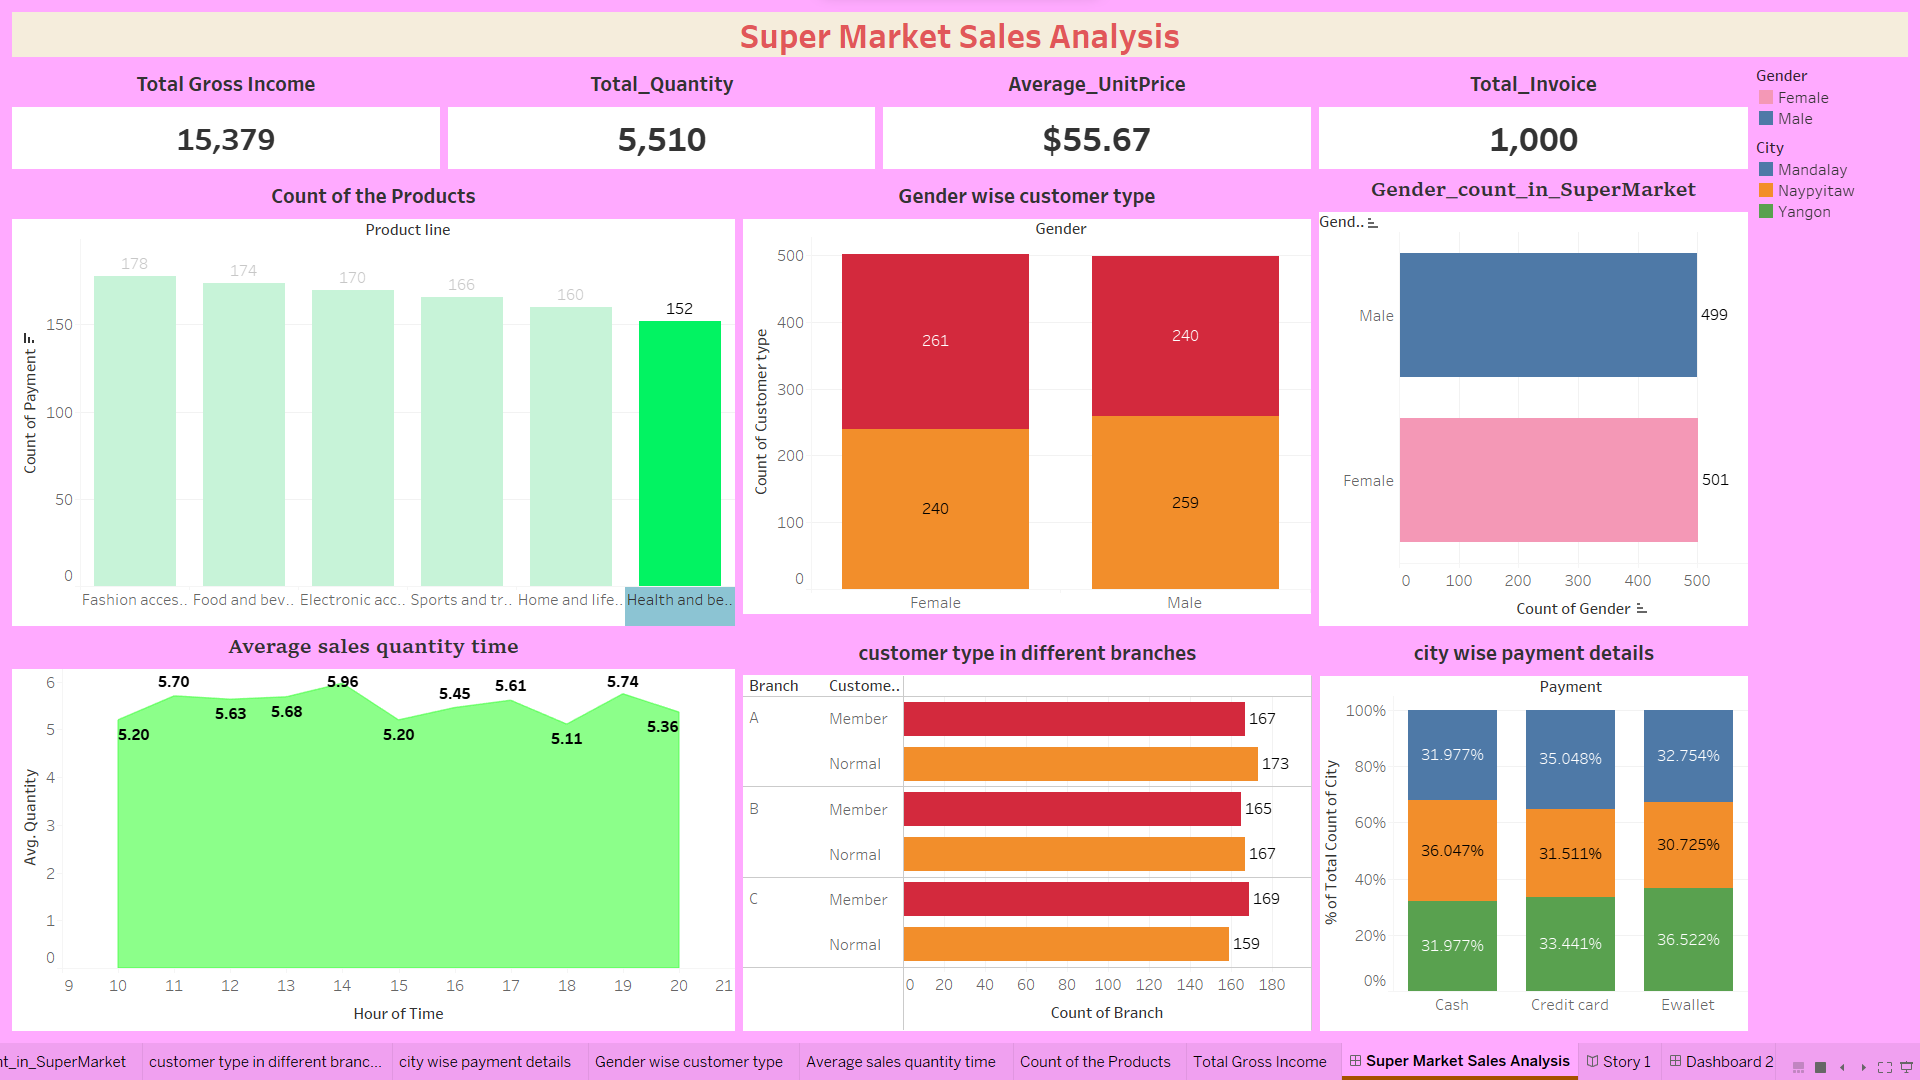

What the dashboard file says about the page in this screenshot:
{"tool":"tableau","page":{"name":"Super Market Sales Analysis","canvas":[1000,1000],"units":"permille","ordinal":1},"visuals":[{"type":"title","box":[4.8,9.4,990.3,62.3]},{"type":"worksheet","title":"Total Gross Income","mark":"Automatic","box":[4.8,71.7,223.3,105.5]},{"type":"worksheet","title":"Total_Quantity","mark":"Automatic","box":[228.1,71.7,223.3,105.5]},{"type":"worksheet","title":"Average_UnitPrice","mark":"Automatic","box":[451.4,71.7,223.3,105.5]},{"type":"worksheet","title":"Total_Invoice","mark":"Automatic","box":[674.6,71.7,224,105.5]},{"type":"legend","title":"Gender_count_in_SuperMarket","param":"[federated.1hdcvoa1uclnzd1cvns0l09doqf1].[none:Gender:nk]","box":[898.6,71.7,96.6,84.6]},{"type":"legend","title":"city wise payment details","param":"[federated.1hdcvoa1uclnzd1cvns0l09doqf1].[none:City:nk]","box":[898.6,156.3,96.6,109.3]},{"type":"worksheet","title":"Count of the Products","mark":"Automatic","rows":["Payment"],"cols":["Product line"],"box":[4.8,177.2,374.7,431.4]},{"type":"worksheet","title":"Gender wise customer type","mark":"Automatic","rows":["Customer type"],"cols":["Gender"],"box":[379.5,177.2,295.4,431.4]},{"type":"worksheet","title":"Gender_count_in_SuperMarket","mark":"Automatic","rows":["Gender"],"cols":["Gender"],"box":[674.9,177.2,223.8,431.4]},{"type":"worksheet","title":"Average sales quantity time","mark":"Area","rows":["Quantity"],"cols":["Time"],"box":[4.8,608.6,374.7,381.9]},{"type":"worksheet","title":"customer type in different branches","mark":"Automatic","rows":["Branch","Customer type"],"cols":["Branch"],"box":[379.5,608.6,295.6,381.9]},{"type":"worksheet","title":"city wise payment details","mark":"Automatic","rows":["City"],"cols":["Payment"],"box":[675,608.6,223.6,381.9]}]}

Visuals, with their boxes on the dashboard's canvas, which has no fixed pixel size, in thousandths of its width and height (x1, y1, x2, y2). These are canvas units, not pixel positions in the 1920x1080 screenshot, which may show the page scaled, cropped or inside an application window:
title: (5,9,995,72)
"Total Gross Income" worksheet: (5,72,228,177)
"Total_Quantity" worksheet: (228,72,451,177)
"Average_UnitPrice" worksheet: (451,72,675,177)
"Total_Invoice" worksheet: (675,72,899,177)
"Gender_count_in_SuperMarket" legend: (899,72,995,156)
"city wise payment details" legend: (899,156,995,266)
"Count of the Products" worksheet: (5,177,380,609)
"Gender wise customer type" worksheet: (380,177,675,609)
"Gender_count_in_SuperMarket" worksheet: (675,177,899,609)
"Average sales quantity time" worksheet (Area marks): (5,609,380,990)
"customer type in different branches" worksheet: (380,609,675,990)
"city wise payment details" worksheet: (675,609,899,990)
